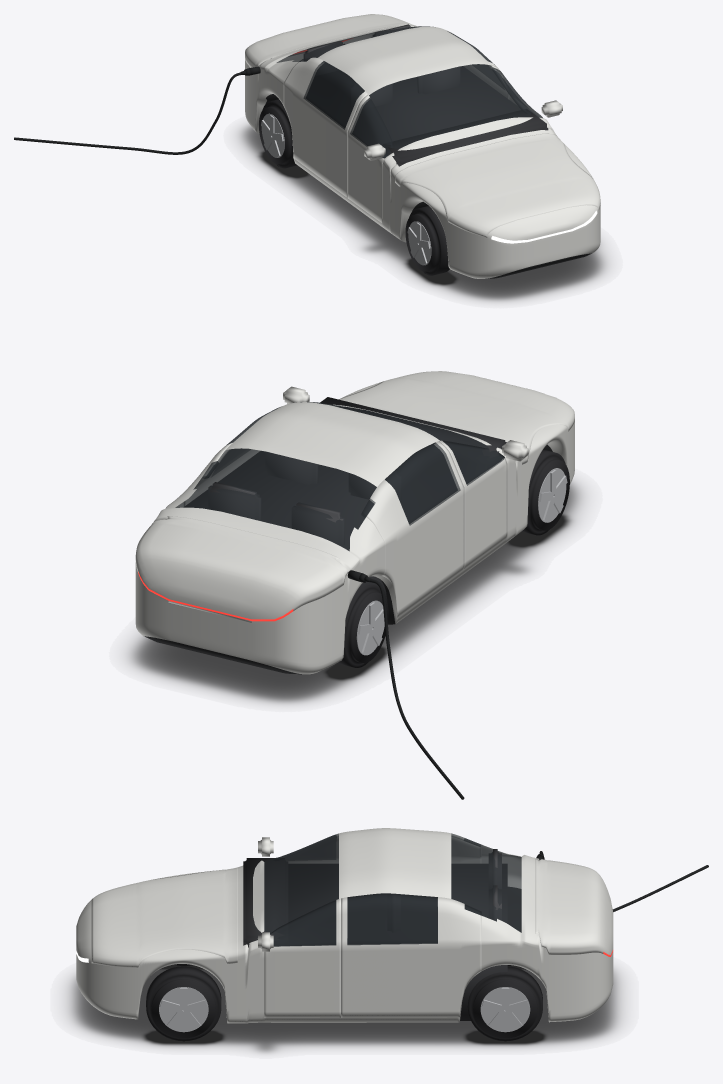
The model's file is car_sedan.glb.
3 views of the same model, one above another, from view 1: azimuth 30°, elevation 25°; view 2: azimuth 150°, elevation 25°; view 3: azimuth 270°, elevation 25° (orthographic). The views are drawn at different scales.
Visible parts, largest first — view 1: body, hood, interior, ground_shadow, door_rr, wheels, door_fr, tailgate, charge_cable, door_rl, door_fl; view 2: body, tailgate, ground_shadow, interior, door_rr, hood, wheels, door_fr, door_rl, charge_cable; view 3: body, door_rl, ground_shadow, hood, wheels, interior, door_fl, tailgate, door_fr, door_rr, charge_cable.
Boxes of the visible parts, x1,y1,x2,y2 form: body: [245, 24, 600, 278]; hood: [395, 133, 600, 237]; interior: [278, 24, 548, 166]; ground_shadow: [238, 124, 607, 301]; door_rr: [283, 57, 367, 197]; wheels: [259, 99, 449, 275]; door_fr: [347, 94, 392, 223]; tailgate: [245, 14, 412, 67]; charge_cable: [14, 66, 260, 154]; door_rl: [444, 29, 508, 98]; door_fl: [489, 64, 542, 118]; body: [135, 382, 574, 674]; tailgate: [135, 516, 348, 622]; ground_shadow: [128, 480, 583, 703]; interior: [184, 397, 506, 624]; door_rr: [361, 441, 464, 617]; hood: [339, 371, 574, 464]; wheels: [337, 449, 569, 667]; door_fr: [439, 440, 507, 568]; door_rl: [184, 406, 281, 506]; charge_cable: [347, 570, 464, 799]; body: [76, 828, 613, 1023]; door_rl: [341, 893, 481, 1017]; ground_shadow: [67, 964, 621, 1052]; hood: [91, 867, 237, 967]; wheels: [146, 964, 542, 1040]; interior: [243, 849, 507, 1020]; door_fl: [264, 898, 340, 1017]; tailgate: [535, 859, 613, 956]; door_fr: [271, 833, 338, 863]; door_rr: [451, 833, 481, 863]; charge_cable: [536, 851, 708, 911].
Size of the model in its own units: 4.27 by 1.45 by 6.18.
11 materials, 1 textured.
